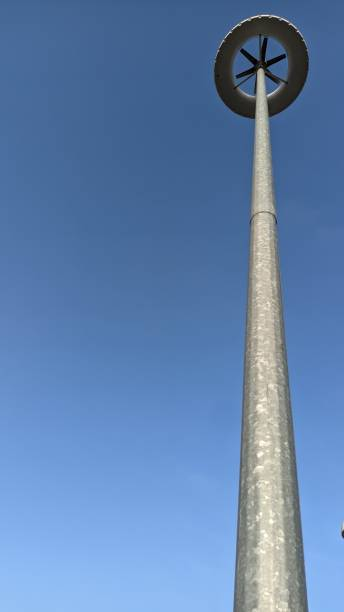light_pole: (233, 74, 310, 612)
